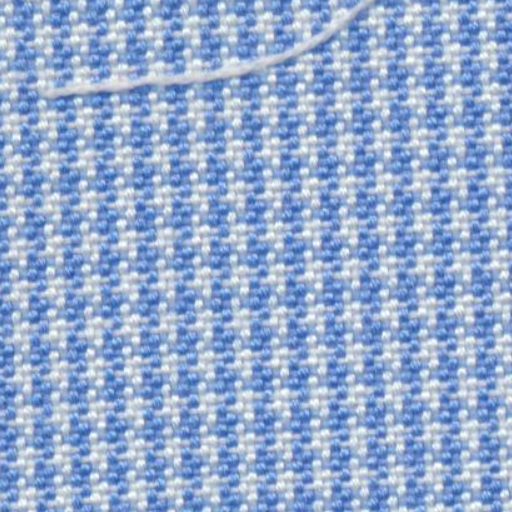DuanSha: (44, 7, 366, 110)
